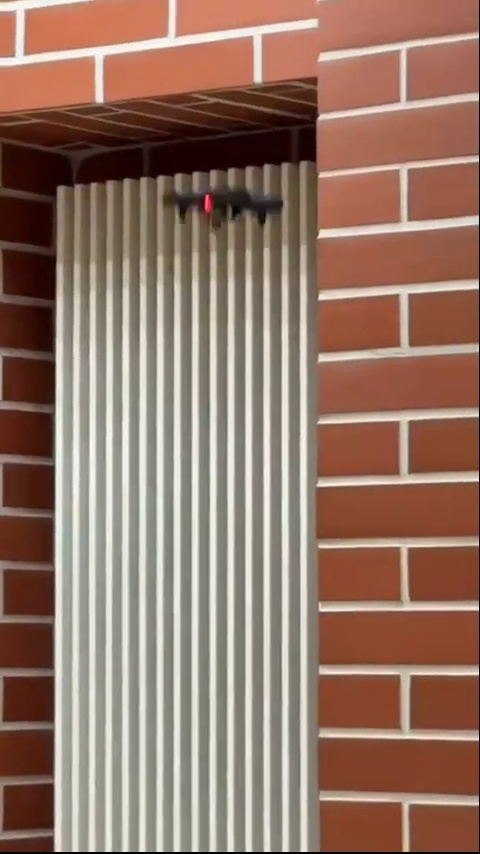drone: (161, 189, 285, 228)
